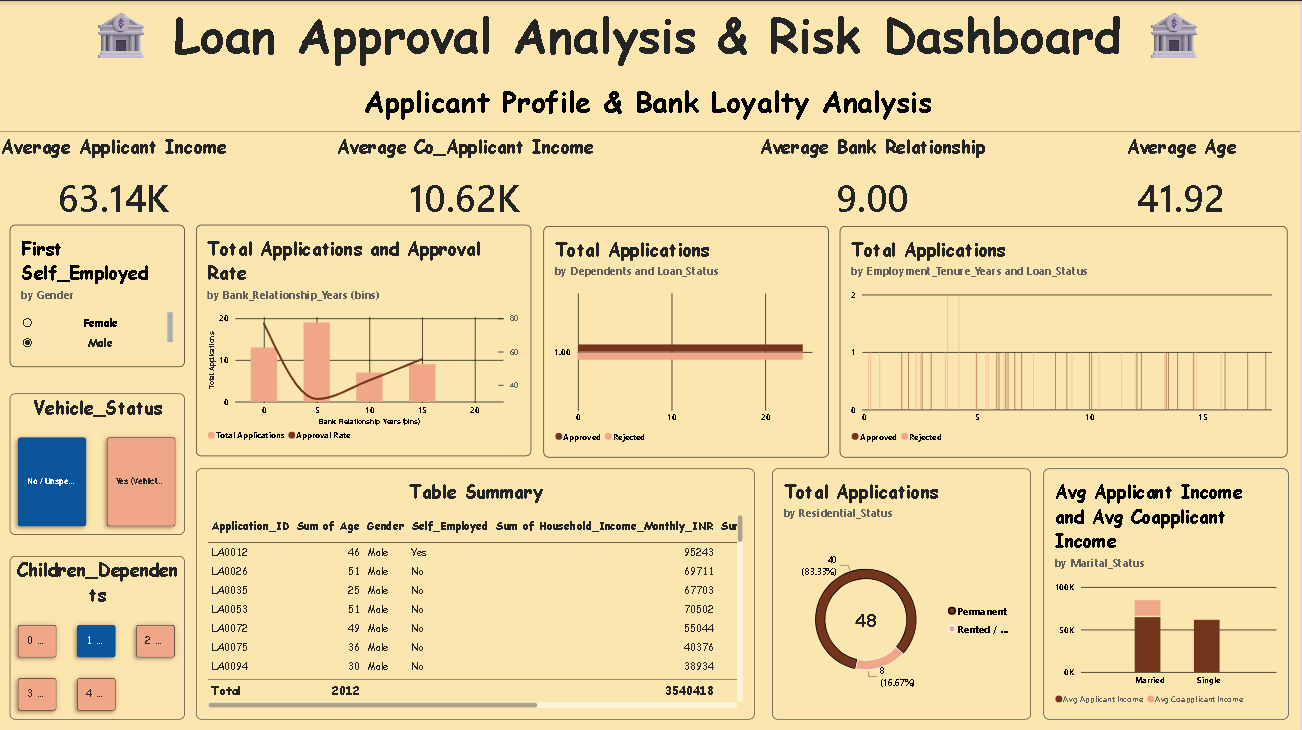

Layout of this report page (visuals, bound fields, positions):
{"tool":"powerbi","page":{"name":"Applicant Profile","canvas":[1920,1080],"ordinal":3},"visuals":[{"type":"textbox","title":"🏦 Loan Approval Analysis & Risk Dashboard 🏦","box":[0,0,1919.6,195.1],"z":0},{"type":"cardVisual","title":"Average Applicant Income","fields":{"Data":["loan_approval_analysis_400_rows_v2.Avg Applicant Income"]},"box":[0,195.1,347.9,134.4],"z":1000},{"type":"cardVisual","title":"Average Co_Applicant Income","fields":{"Data":["loan_approval_analysis_400_rows_v2.Avg Coapplicant Income"]},"box":[493.3,195.1,395.7,134.4],"z":2000},{"type":"cardVisual","title":"Average Bank Relationship","fields":{"Data":["loan_approval_analysis_400_rows_v2.Avg Bank Relationship"]},"box":[1117.2,195.1,347.9,134.4],"z":3000},{"type":"cardVisual","title":"Average Age","fields":{"Data":["loan_approval_analysis_400_rows_v2.Avg Age"]},"box":[1571.8,195.1,347.9,134.4],"z":4000},{"type":"columnChart","fields":{"Category":["loan_approval_analysis_400_rows_v2.Marital_Status"],"Y":["loan_approval_analysis_400_rows_v2.Avg Applicant Income","loan_approval_analysis_400_rows_v2.Avg Coapplicant Income"]},"box":[1542.3,688.3,360.7,369.9],"z":5000},{"type":"lineStackedColumnComboChart","fields":{"Category":["loan_approval_analysis_400_rows_v2.Bank_Relationship_Years (bins)"],"Y":["loan_approval_analysis_400_rows_v2.Total Applications"],"Y2":["loan_approval_analysis_400_rows_v2.Approval Rate"]},"box":[294.5,329.4,493.3,340.5],"z":6000},{"type":"clusteredBarChart","fields":{"Category":["loan_approval_analysis_400_rows_v2.Dependents"],"Series":["loan_approval_analysis_400_rows_v2.Loan_Status"],"Y":["loan_approval_analysis_400_rows_v2.Total Applications"]},"box":[806.1,331.3,419.6,340.5],"z":7000},{"type":"listSlicer","fields":{"Values":["loan_approval_analysis_400_rows_v2.Gender"]},"box":[20.2,329.4,257.7,209.8],"z":8000},{"type":"tableEx","title":"Table Summary","fields":{"Values":["loan_approval_analysis_400_rows_v2.Application_ID","Sum(loan_approval_analysis_400_rows_v2.Age)","loan_approval_analysis_400_rows_v2.Gender","loan_approval_analysis_400_rows_v2.Self_Employed","Sum(loan_approval_analysis_400_rows_v2.Household_Income_Monthly_INR)","Sum(loan_approval_analysis_400_rows_v2.Credit_Score)","Sum(loan_approval_analysis_400_rows_v2.Loan_Amount_INR)","loan_approval_analysis_400_rows_v2.Loan_Status"]},"box":[294.5,688.3,822.7,369.9],"z":9000},{"type":"donutChart","fields":{"Category":["loan_approval_analysis_400_rows_v2.Residential_Status"],"Y":["loan_approval_analysis_400_rows_v2.Total Applications"]},"box":[1143,688.3,381,369.9],"z":10000},{"type":"clusteredColumnChart","fields":{"Category":["loan_approval_analysis_400_rows_v2.Employment_Tenure_Years"],"Series":["loan_approval_analysis_400_rows_v2.Loan_Status"],"Y":["loan_approval_analysis_400_rows_v2.Total Applications"]},"box":[1242.3,331.3,658.9,340.5],"z":11000},{"type":"advancedSlicerVisual","fields":{"Values":["loan_approval_analysis_400_rows_v2.Vehicle_Status"]},"box":[20.2,577.9,257.7,208],"z":12000},{"type":"advancedSlicerVisual","fields":{"Values":["loan_approval_analysis_400_rows_v2.Children_Dependents"]},"box":[20.2,817.2,257.7,241.1],"z":13000}]}

Visuals, with their boxes in screenshot pixels (x1, y1, x2, y2), scaled from the page's 1920x1080 canvas onto the 1302x730 screenshot:
"🏦 Loan Approval Analysis & Risk Dashboard 🏦" textbox: [0,0,1301,132]
"Average Applicant Income" cardVisual: [0,132,236,223]
"Average Co_Applicant Income" cardVisual: [335,132,603,223]
"Average Bank Relationship" cardVisual: [758,132,994,223]
"Average Age" cardVisual: [1066,132,1301,223]
columnChart - loan_approval_analysis_400_rows_v2.Marital_Status x loan_approval_analysis_400_rows_v2.Avg Applicant Income: [1046,465,1290,715]
lineStackedColumnComboChart - loan_approval_analysis_400_rows_v2.Bank_Relationship_Years (bins) x loan_approval_analysis_400_rows_v2.Total Applications: [200,223,534,453]
clusteredBarChart - loan_approval_analysis_400_rows_v2.Dependents x loan_approval_analysis_400_rows_v2.Loan_Status: [547,224,831,454]
listSlicer - loan_approval_analysis_400_rows_v2.Gender: [14,223,188,364]
"Table Summary" tableEx: [200,465,758,715]
donutChart - loan_approval_analysis_400_rows_v2.Residential_Status x loan_approval_analysis_400_rows_v2.Total Applications: [775,465,1033,715]
clusteredColumnChart - loan_approval_analysis_400_rows_v2.Employment_Tenure_Years x loan_approval_analysis_400_rows_v2.Loan_Status: [842,224,1289,454]
advancedSlicerVisual - loan_approval_analysis_400_rows_v2.Vehicle_Status: [14,391,188,531]
advancedSlicerVisual - loan_approval_analysis_400_rows_v2.Children_Dependents: [14,552,188,715]
